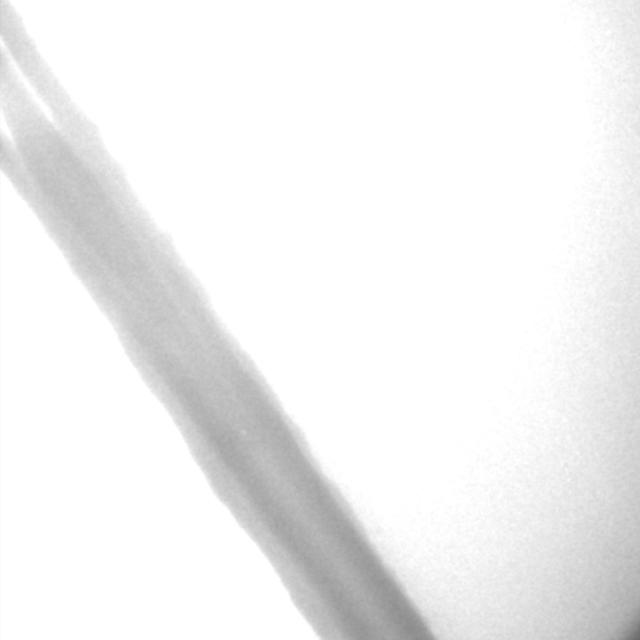unfused: (1, 33, 59, 198)
